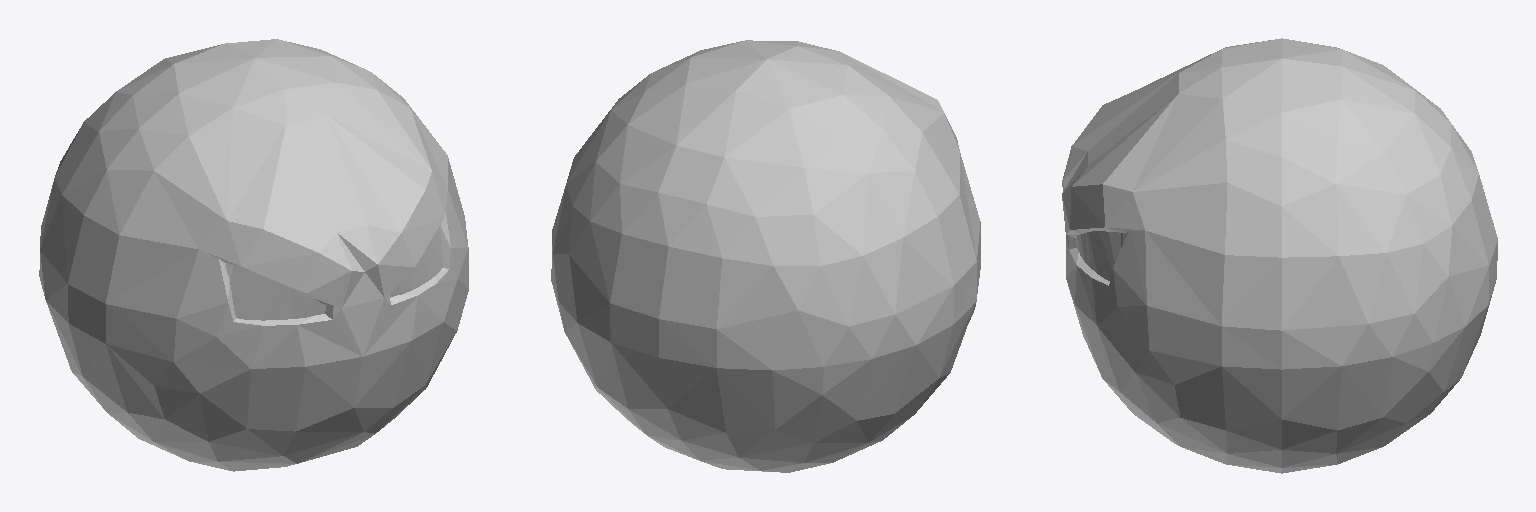
3 renders of one model, left to right at view 1: azimuth 30°, elevation 25°; view 2: azimuth 150°, elevation 25°; view 3: azimuth 270°, elevation 25°, orthographic.
Parts seen in each view (by area): view 1: pm0100_00_00_body_mesh_shape_lod2_body_a, pm0100_00_00_body_mesh_shape_lod2_body_b, pm0100_00_00_eye_mesh_shape_lod2_r_eye, pm0100_00_00_eye_mesh_shape_lod2_l_eye; view 2: pm0100_00_00_body_mesh_shape_lod2_body_b, pm0100_00_00_body_mesh_shape_lod2_body_a; view 3: pm0100_00_00_body_mesh_shape_lod2_body_b, pm0100_00_00_body_mesh_shape_lod2_body_a, pm0100_00_00_eye_mesh_shape_lod2_l_eye.
Boxes of the visible parts, x1,y1,x2,y2 form: pm0100_00_00_body_mesh_shape_lod2_body_a: [106, 83, 468, 368]; pm0100_00_00_body_mesh_shape_lod2_body_b: [39, 39, 468, 471]; pm0100_00_00_eye_mesh_shape_lod2_r_eye: [226, 263, 325, 320]; pm0100_00_00_eye_mesh_shape_lod2_l_eye: [390, 225, 442, 297]; pm0100_00_00_body_mesh_shape_lod2_body_b: [551, 40, 976, 472]; pm0100_00_00_body_mesh_shape_lod2_body_a: [747, 40, 980, 293]; pm0100_00_00_body_mesh_shape_lod2_body_b: [1068, 38, 1497, 473]; pm0100_00_00_body_mesh_shape_lod2_body_a: [1062, 49, 1227, 365]; pm0100_00_00_eye_mesh_shape_lod2_l_eye: [1076, 231, 1125, 280].
Size of the model in its own units: 0.4986 by 0.5024 by 0.5029.